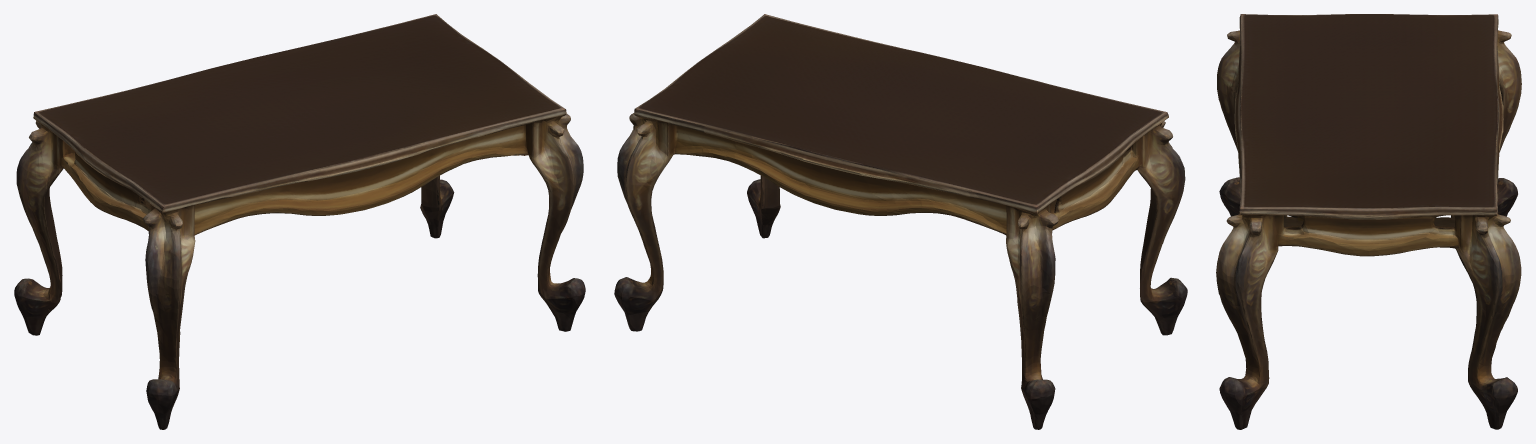
3 views of the same model, side by side, from view 1: azimuth 30°, elevation 25°; view 2: azimuth 150°, elevation 25°; view 3: azimuth 270°, elevation 25° (orthographic).
Parts seen in each view (by area): view 1: world; view 2: world; view 3: world.
Boxes of the visible parts, x1,y1,x2,y2 form: world: [14, 14, 585, 429]; world: [614, 14, 1187, 429]; world: [1216, 14, 1521, 429].
Bounding box in the file's own units: 1 × 0.4868 × 0.6129.
Materials: 1 (1 with a texture image).
